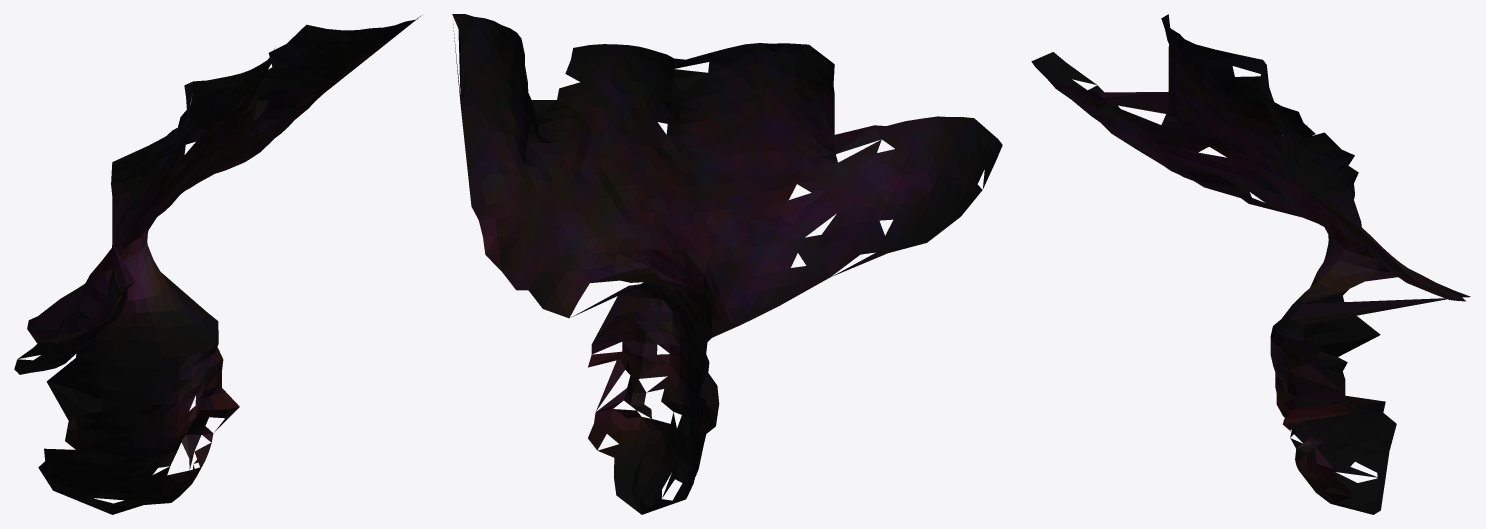
3 views of the same model, side by side, from view 1: azimuth 30°, elevation 25°; view 2: azimuth 150°, elevation 25°; view 3: azimuth 270°, elevation 25° (orthographic). The views are drawn at different scales.
Parts seen in each view (by area): view 1: ofMesh; view 2: ofMesh; view 3: ofMesh.
Part boxes in pixels (x1=…): ofMesh: x1=14, y1=15, x2=421, y2=514; ofMesh: x1=452, y1=14, x2=1002, y2=514; ofMesh: x1=1031, y1=14, x2=1470, y2=514.
Bounding box in the file's own units: 460 × 410 × 359.
Materials: 1 (1 with a texture image).
